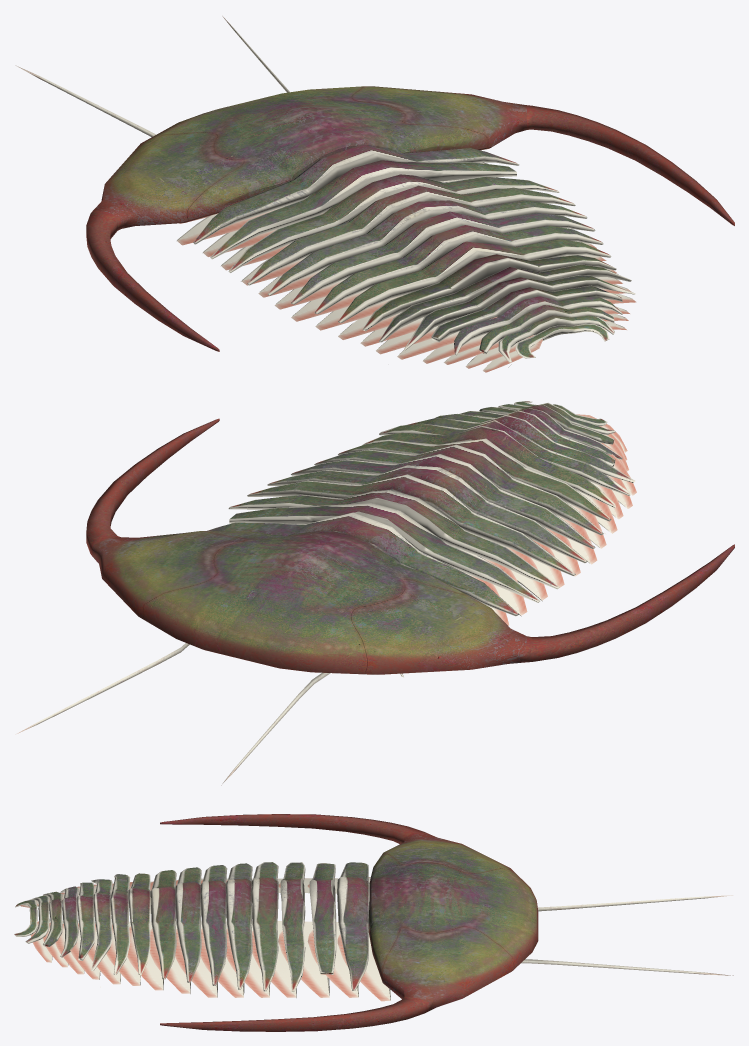
Rendered from trilobite.fbx.
3 views of the same model, one above another, from view 1: azimuth 30°, elevation 25°; view 2: azimuth 150°, elevation 25°; view 3: azimuth 270°, elevation 25° (orthographic). The views are drawn at different scales.
Visible parts, largest first — view 1: trilobite; view 2: trilobite; view 3: trilobite.
Boxes of the visible parts, x1=… form: trilobite: x1=15, y1=16, x2=734, y2=372; trilobite: x1=15, y1=401, x2=734, y2=785; trilobite: x1=14, y1=814, x2=733, y2=1031.
Bounding box in the file's own units: 220 × 33.14 × 320.
Materials: 1 (1 with a texture image).
